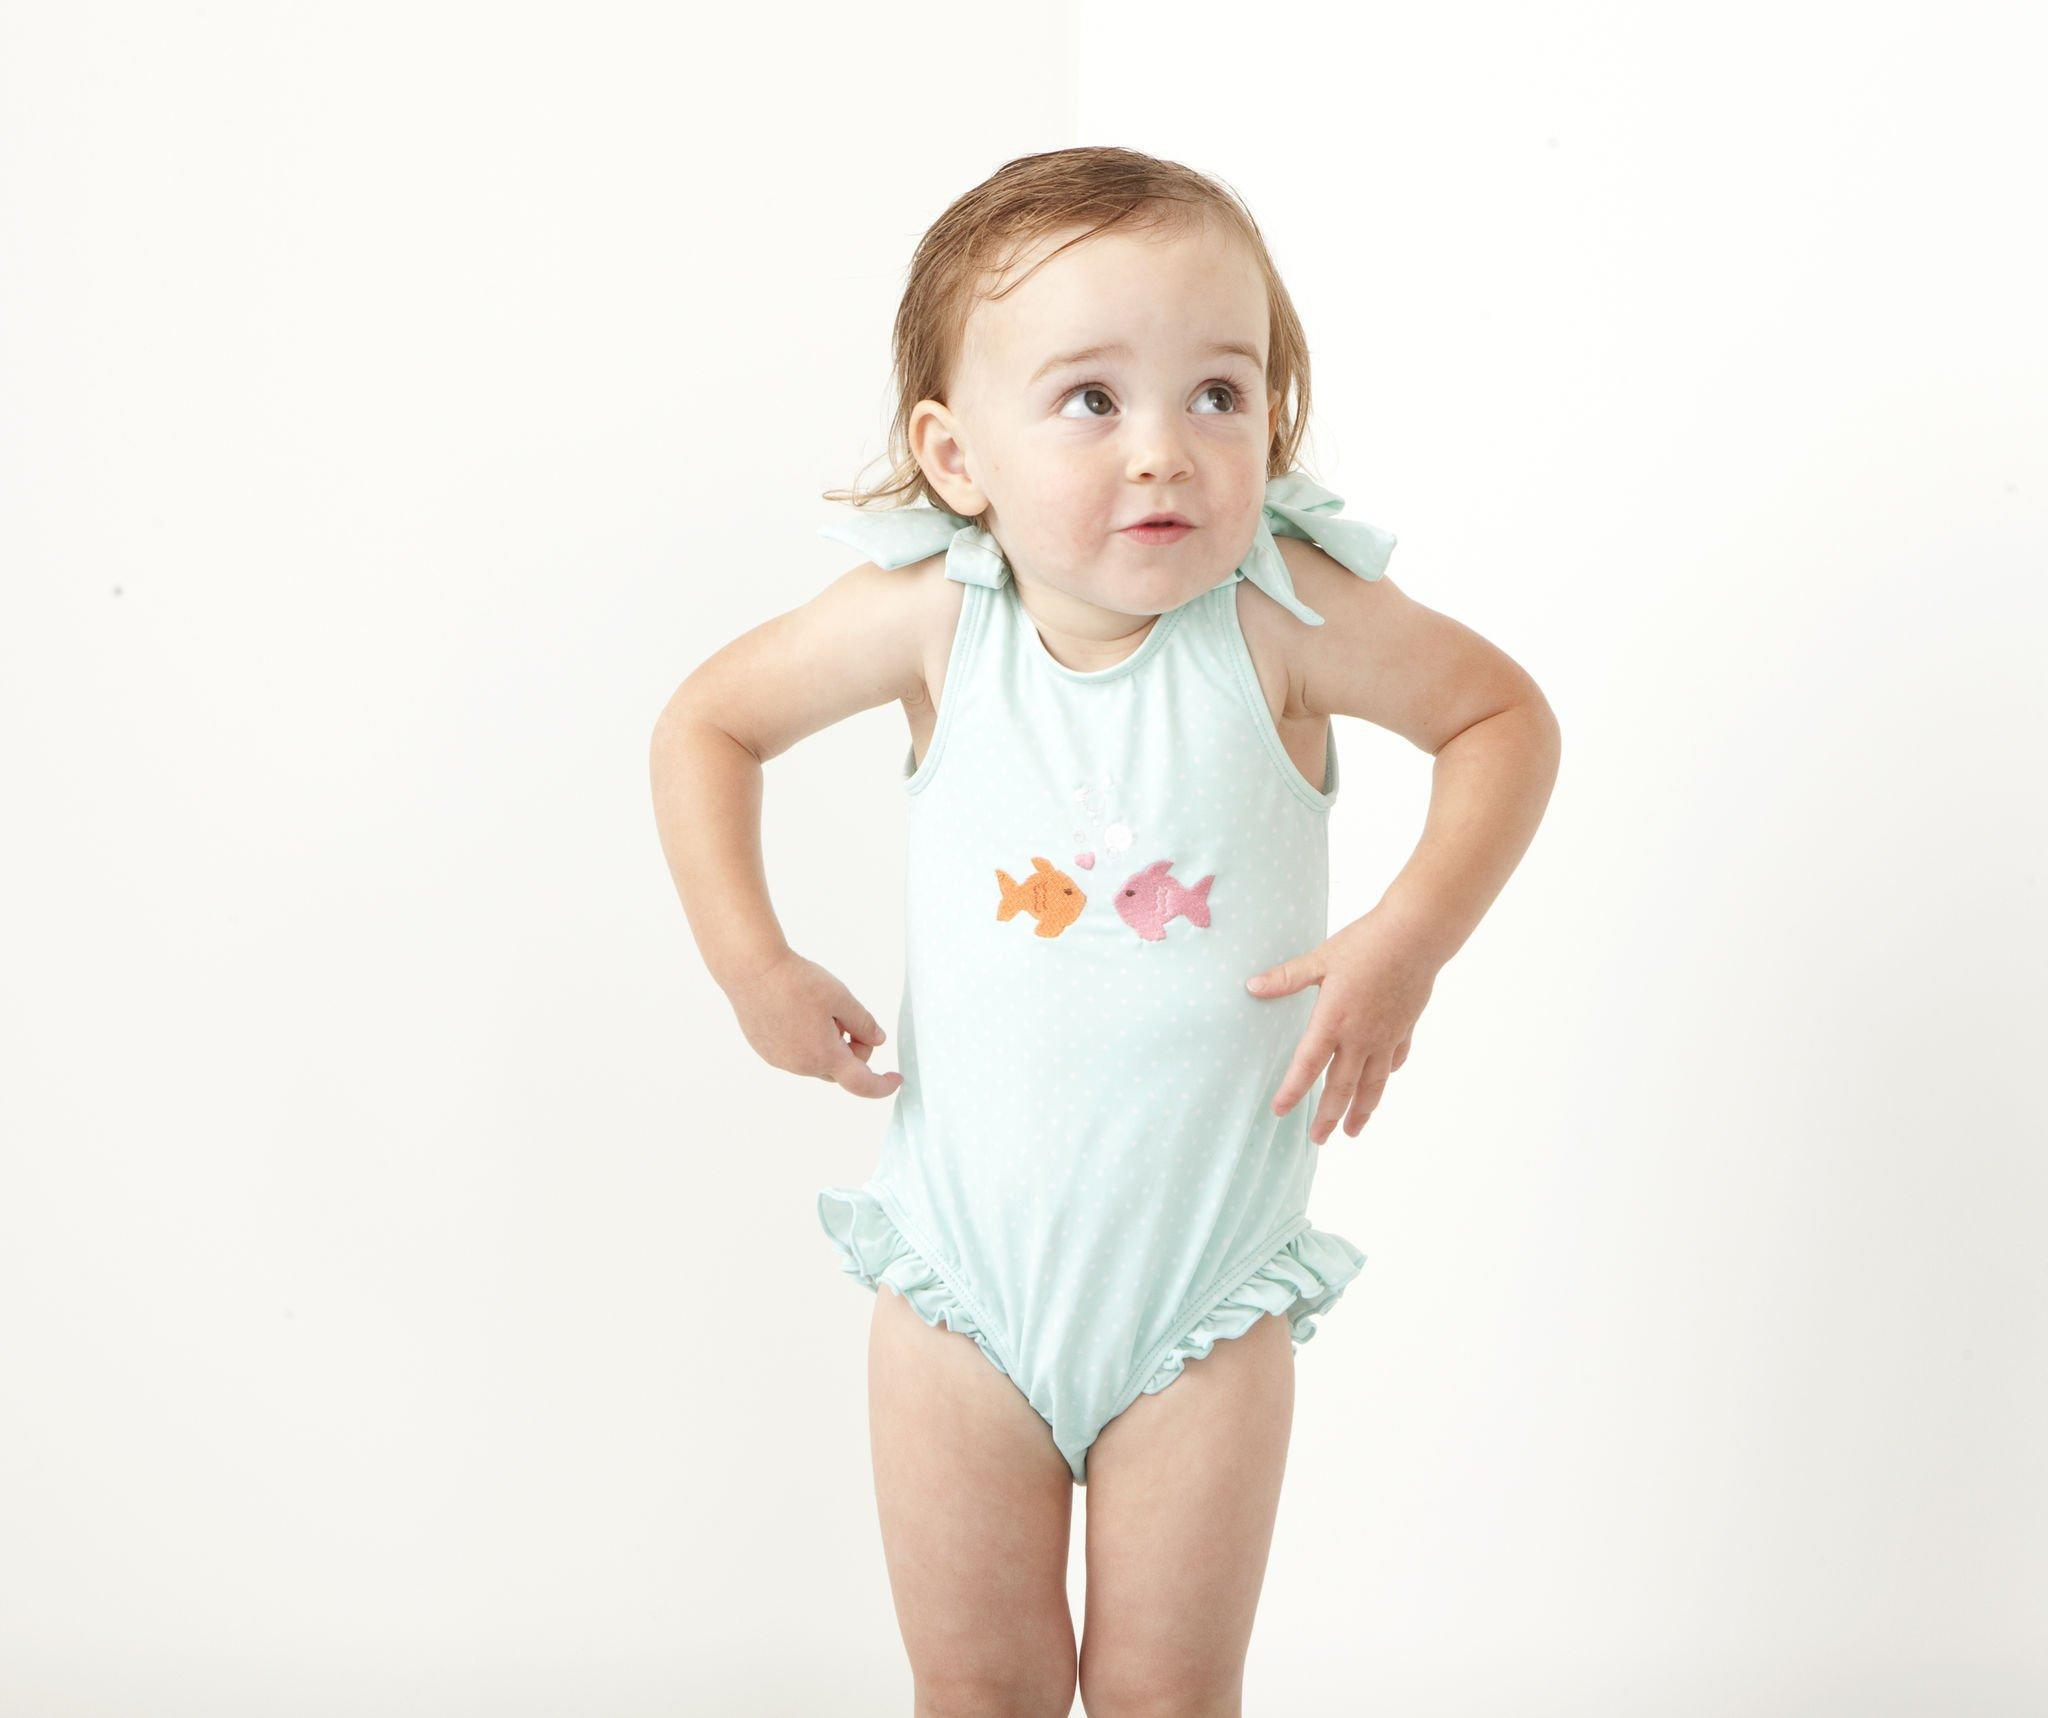Healthy: (917, 187, 1309, 634)
